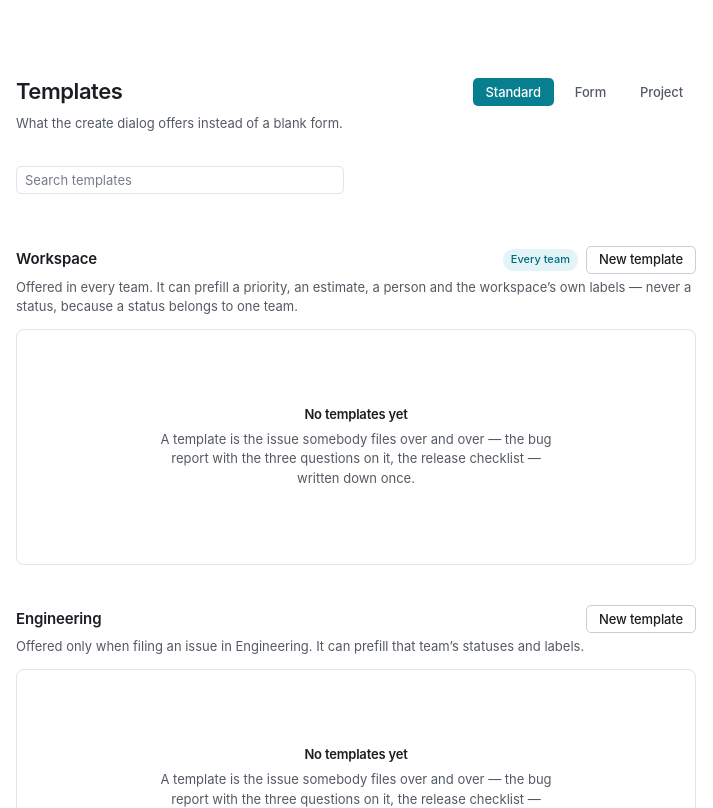
Templates on the settings frame › opens the editor inside the scope it was asked for, and takes that scope’s button away
What coordinates should you click on to do the following:
click the button with aria-label "New template for Engineering"
I would click on:
 (641, 619)
Its box is x1=586 y1=605 x2=696 y2=633.
(page scrolled)
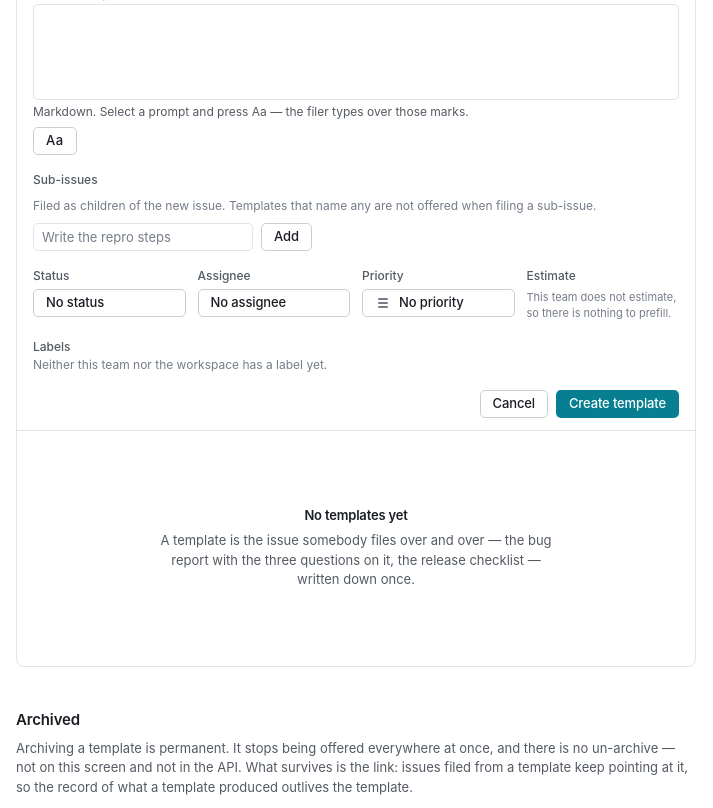
What coordinates should you click on to do the following:
click the button "Cancel"
I would click on:
 (514, 404)
Its box is x1=480 y1=390 x2=548 y2=418.
(page scrolled)
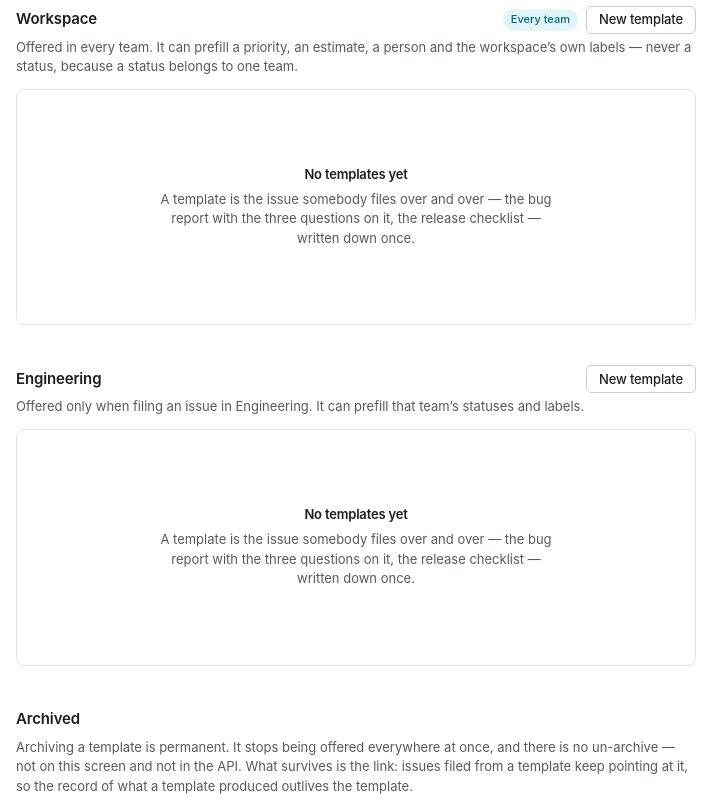
Result: the button with aria-label "New template for Engineering" is shown at x1=586 y1=365 x2=696 y2=393
